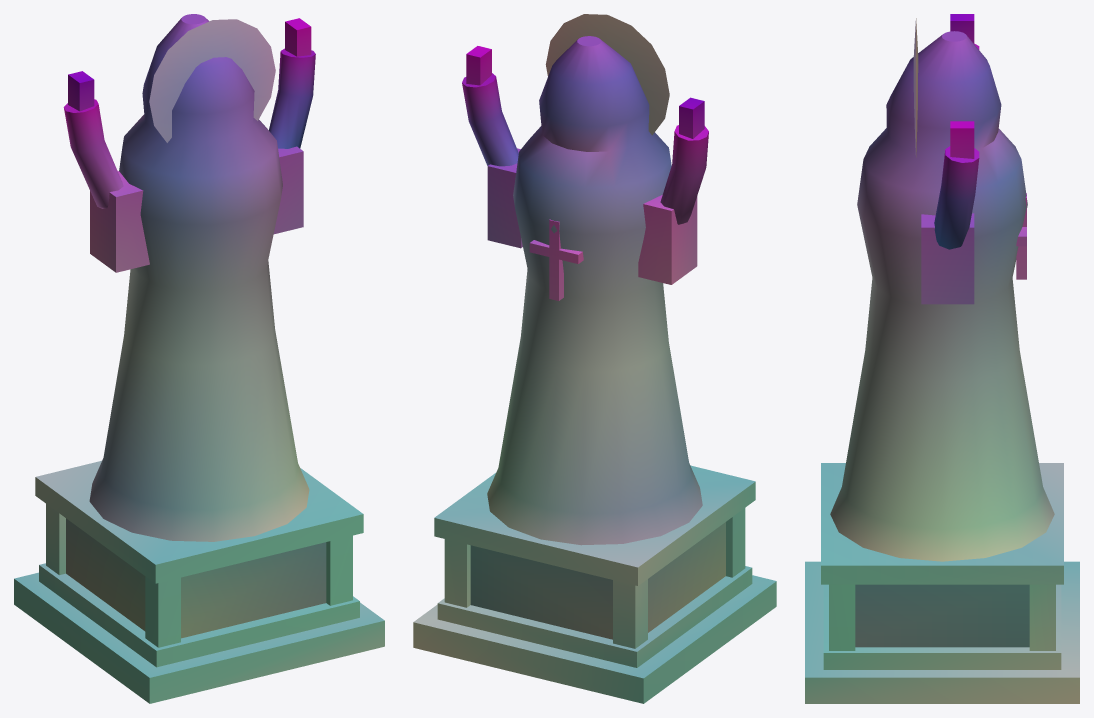
The model's file is statue_orans.glb.
3 views of the same model, side by side, from view 1: azimuth 30°, elevation 25°; view 2: azimuth 150°, elevation 25°; view 3: azimuth 270°, elevation 25° (orthographic). The views are drawn at different scales.
Visible parts, largest first — view 1: saint_o, orans_trim, plinth, orans_halo, arm, arm.001; view 2: saint_o, orans_trim, plinth, orans_halo, arm.001, arm; view 3: saint_o, orans_trim, plinth, arm.001, orans_halo.
Boxes of the visible parts, box(x1,y1,x2,y2) form: saint_o: box(89, 14, 309, 541); orans_trim: box(14, 18, 384, 703); plinth: box(66, 518, 326, 638); orans_halo: box(149, 19, 275, 142); arm: box(63, 99, 123, 208); arm.001: box(269, 48, 315, 148); saint_o: box(487, 36, 702, 545); orans_trim: box(413, 46, 776, 703); plinth: box(470, 522, 725, 639); orans_halo: box(545, 14, 669, 135); arm.001: box(462, 73, 518, 166); arm: box(660, 125, 708, 224); saint_o: box(830, 31, 1054, 561); orans_trim: box(805, 14, 1079, 703); plinth: box(855, 584, 1029, 647); arm.001: box(934, 146, 979, 249); orans_halo: box(913, 18, 918, 157).
Size of the model in its own units: 1.09 by 2.6 by 1.04.
